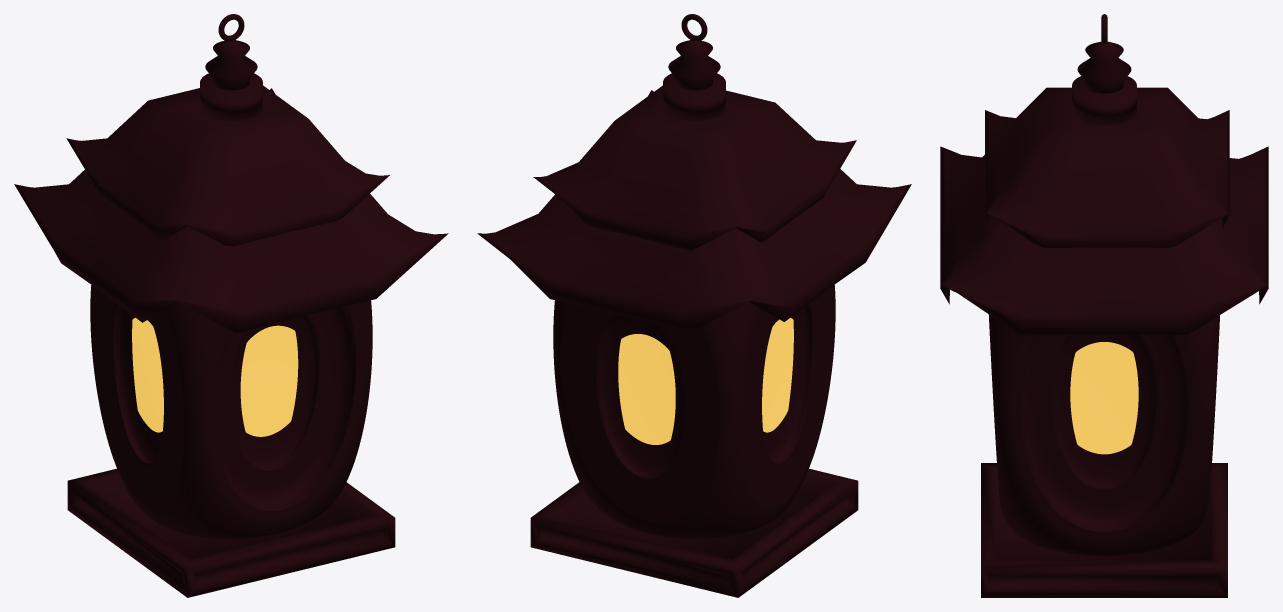
The model's file is lantern.glb.
The picture shows the model from 3 angles, left to right: view 1: azimuth 30°, elevation 25°; view 2: azimuth 150°, elevation 25°; view 3: azimuth 270°, elevation 25°; orthographic projection. The views are drawn at different scales.
Parts seen in each view (by area): view 1: Plane, Cube, Cube.001, Plane.001, Cylinder, Cylinder.001; view 2: Plane, Cube, Cube.001, Plane.001, Cylinder, Cylinder.001; view 3: Plane, Cube, Cube.001, Plane.001, Cylinder, Cylinder.001.
Part boxes in pixels (x1,y1,x2,y2): Plane: (90,285,372,539); Cube: (14,170,448,332); Cube.001: (66,85,389,246); Plane.001: (67,468,395,597); Cylinder: (200,73,262,120); Cylinder.001: (205,40,257,90); Plane: (553,285,835,539); Cube: (477,169,911,332); Cube.001: (533,85,856,250); Plane.001: (530,468,858,597); Cylinder: (663,73,725,120); Cylinder.001: (668,40,720,90); Plane: (988,314,1219,556); Cube: (940,146,1268,334); Cube.001: (985,87,1229,247); Plane.001: (981,463,1227,597); Cylinder: (1072,76,1136,125); Cylinder.001: (1077,41,1131,93).
Size of the model in its own units: 2.61 by 4.66 by 2.61.
